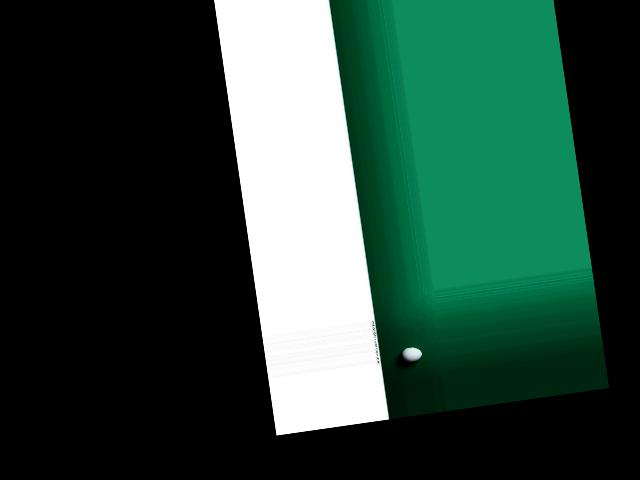egg: (400, 345, 422, 362)
